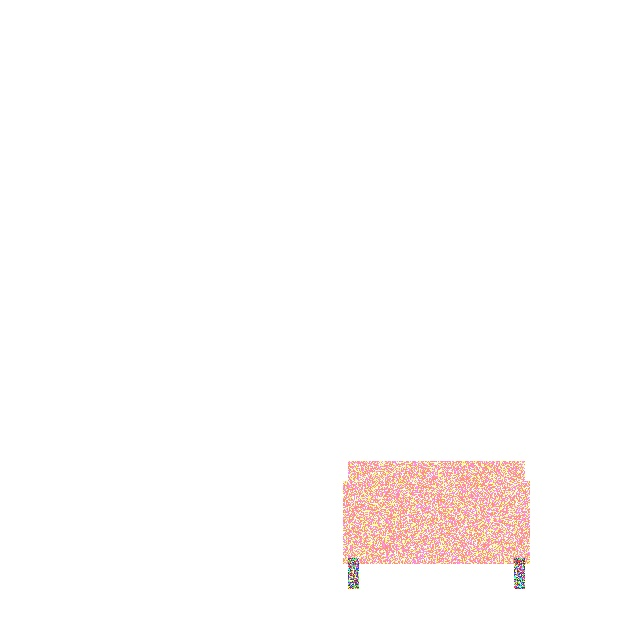Chaise: (343, 481, 529, 563)
